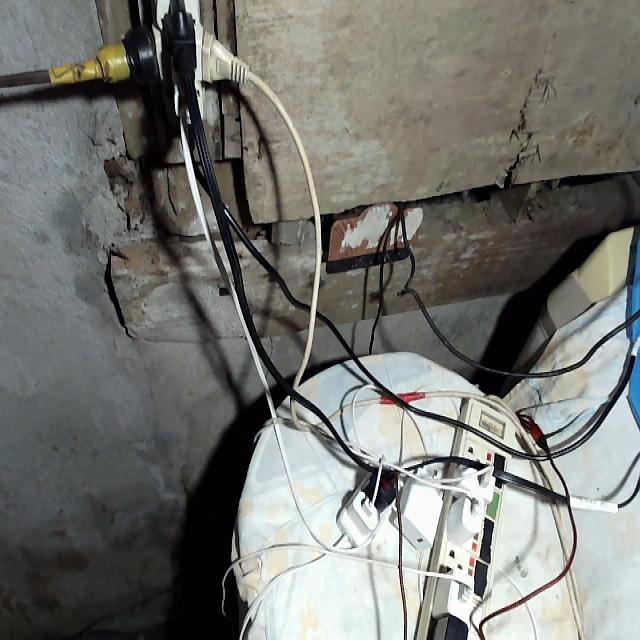-: (98, 0, 249, 125)
